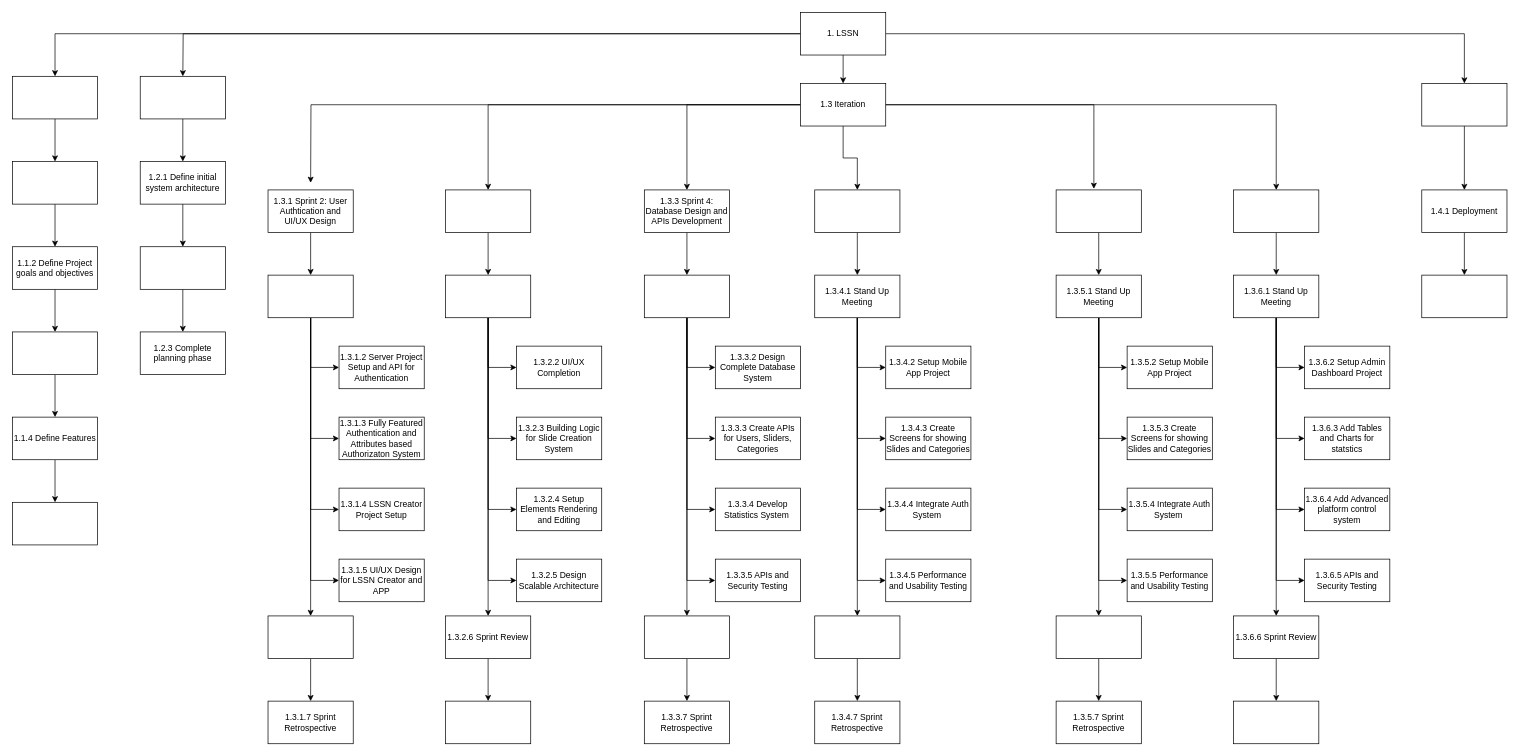
The diagram is 1519 pixels wide and 756 high, and some of its shapes have lost their labels. Each missing label, with the centre of its shape:
1.1 Initiation: point 55,97
1.1.1 Requirements Gathering: point 55,182
1.1.3 Identify user requirements: point 55,353
1.1.5 Conduct Initial Project Planning: point 55,523
1.2 Planning: point 182,97
1.2.2 Estimate time: point 182,267
1.3.1.1 Stand Up Meeting: point 310,296
1.3.1.6 Sprint Review: point 310,637
1.3.2 Sprint 3: LSSN Creator Development: point 488,211
1.3.2.1 Stand Up Meeting: point 488,296
1.3.2.7 Sprint Retrospective: point 488,722
1.3.3.1 Stand Up Meeting: point 687,296
1.3.3.6 Sprint Review: point 687,637
1.3.4 Sprint 4: Mobile App Development: point 857,211
1.3.4.6 Sprint Review: point 857,637
1.3.5 Sprint 4: Mobile App Development: point 1098,211
1.3.5.6 Sprint Review: point 1098,637
1.3.6 Sprint 4: Admin Dashboard Development: point 1276,211
1.3.6.7 Sprint Retrospective: point 1276,722
1.4 Release: point 1464,104
1.4.2 Maintenance: point 1464,296
